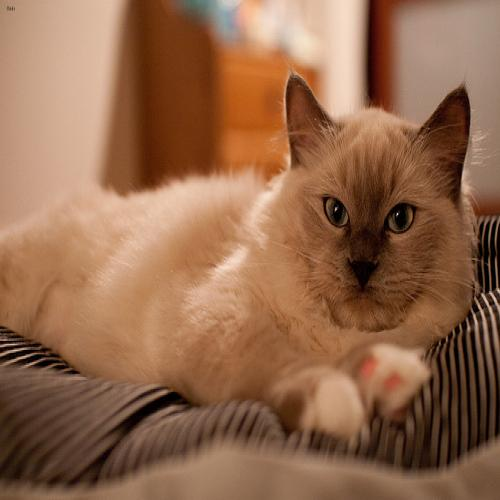ragdoll: (276, 61, 469, 334)
